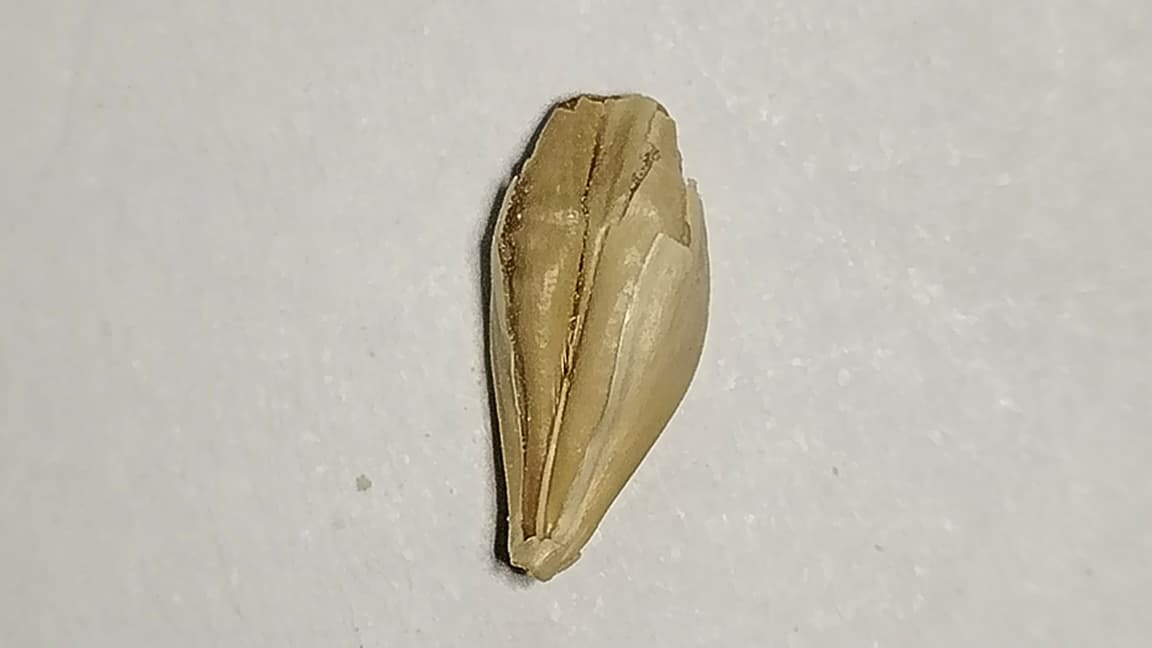healthy-50-40: (491, 95, 708, 578)
staindamage: (472, 166, 563, 311)
